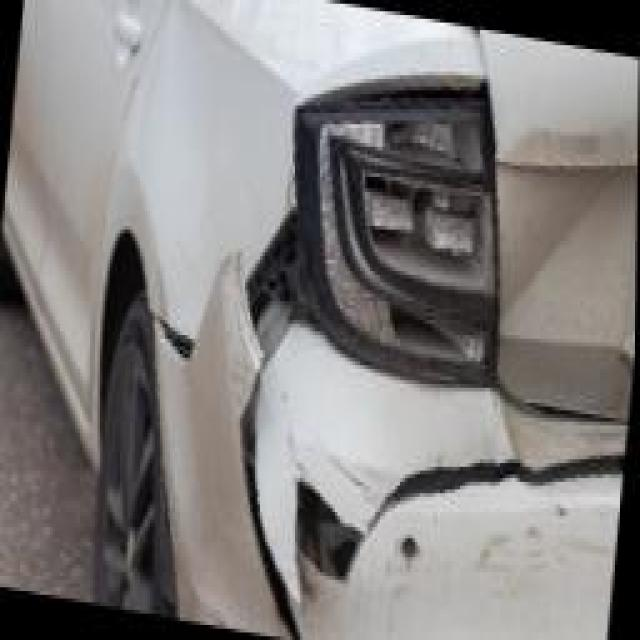Bumper: (149, 254, 630, 640)
Dickey: (473, 30, 639, 428)
Light: (285, 79, 498, 389)
